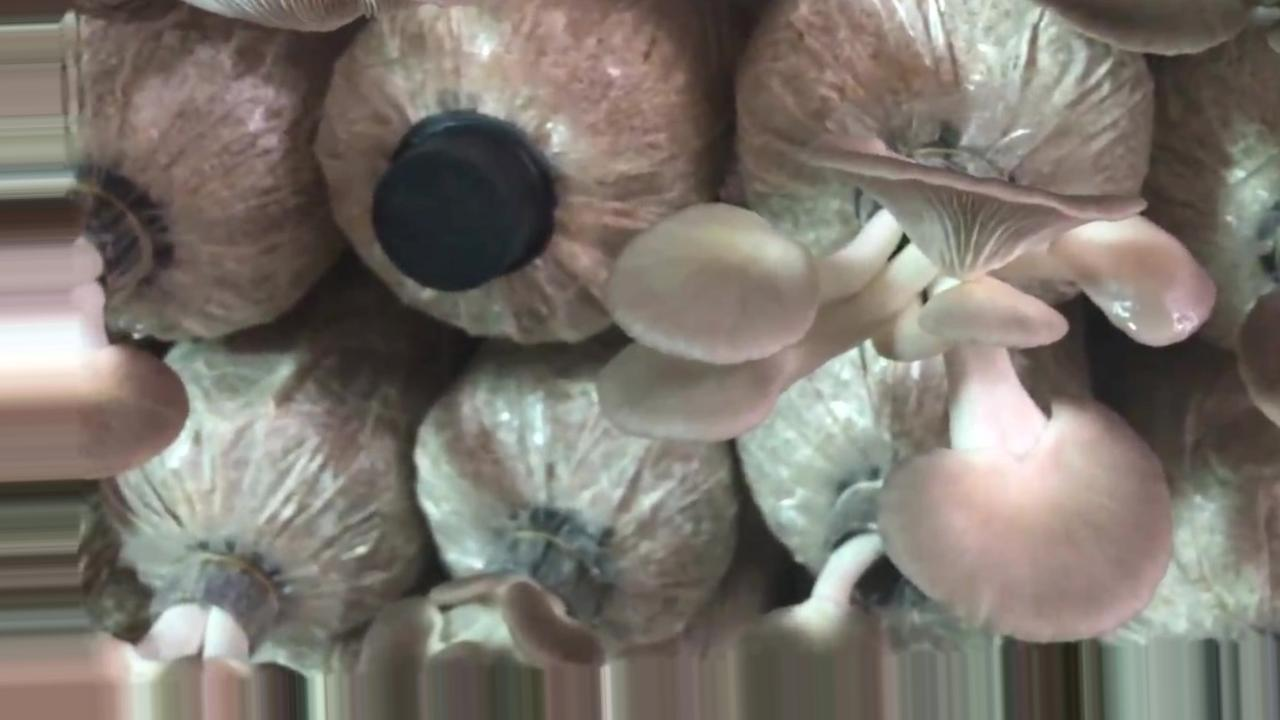nam: (595, 134, 1214, 646), (1, 173, 195, 481)
